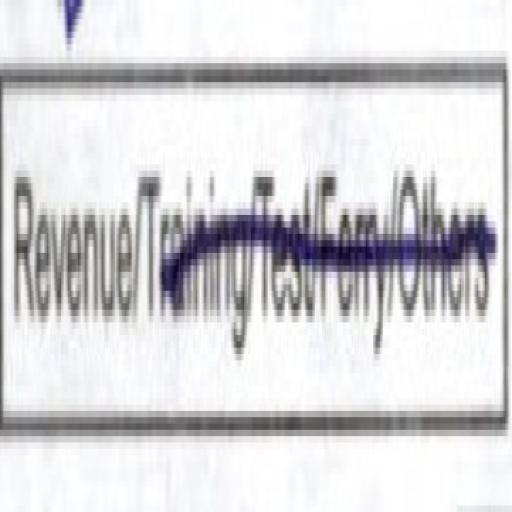check: (0, 0, 134, 477)
